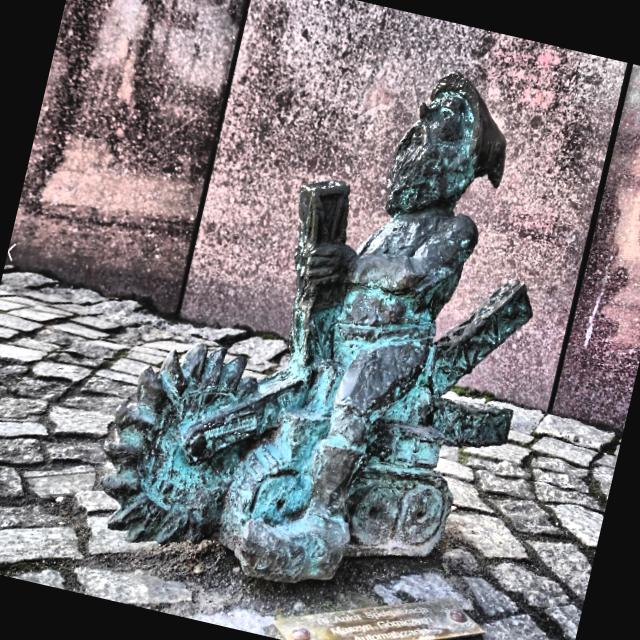Automatek: (102, 73, 531, 580)
